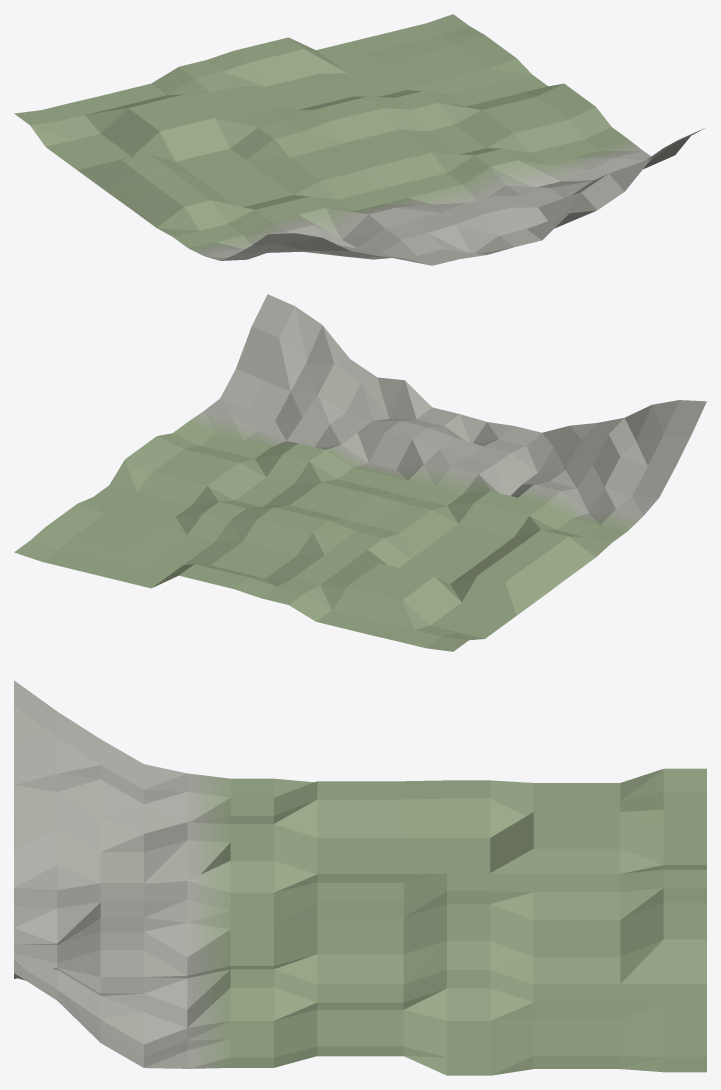
The picture shows the model from 3 angles, top to bottom: view 1: azimuth 30°, elevation 25°; view 2: azimuth 150°, elevation 25°; view 3: azimuth 270°, elevation 25°; orthographic projection. The views are drawn at different scales.
Bounding box in the file's own units: 32 × 5.97 × 32.
